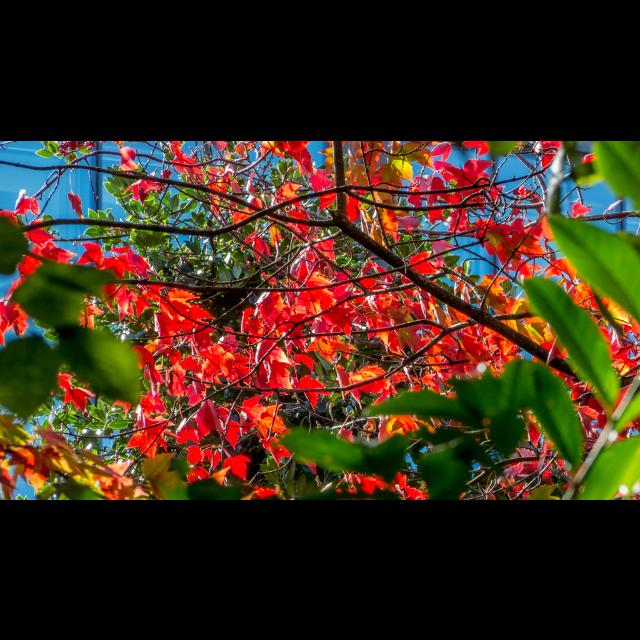Flower: (1, 140, 640, 498)
